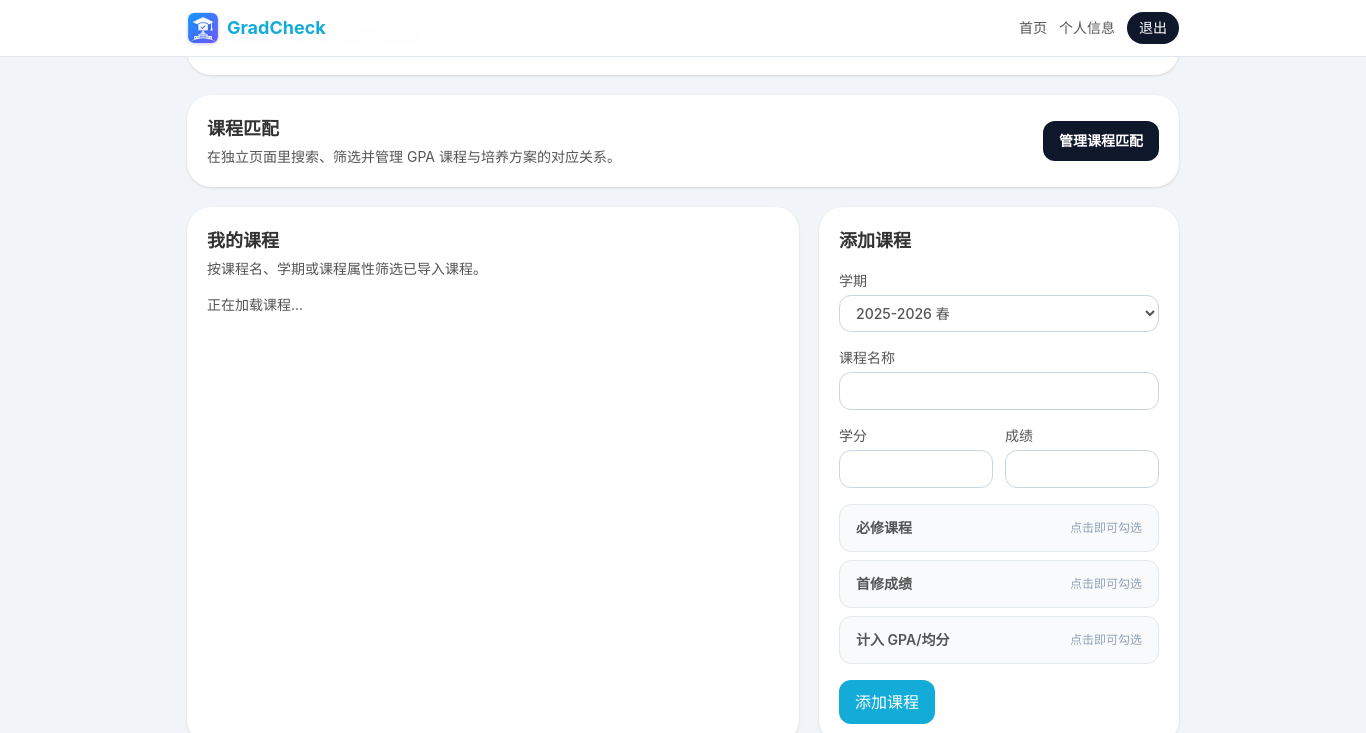
Test: GpaPage › keeps stale in-flight dashboard fetches from overwriting mutation results
(page scrolled)
Type "程序设计" into the field with test id "gpa-course-name".
click(999, 391); type("程序设计")  # box [839,372,1159,410]
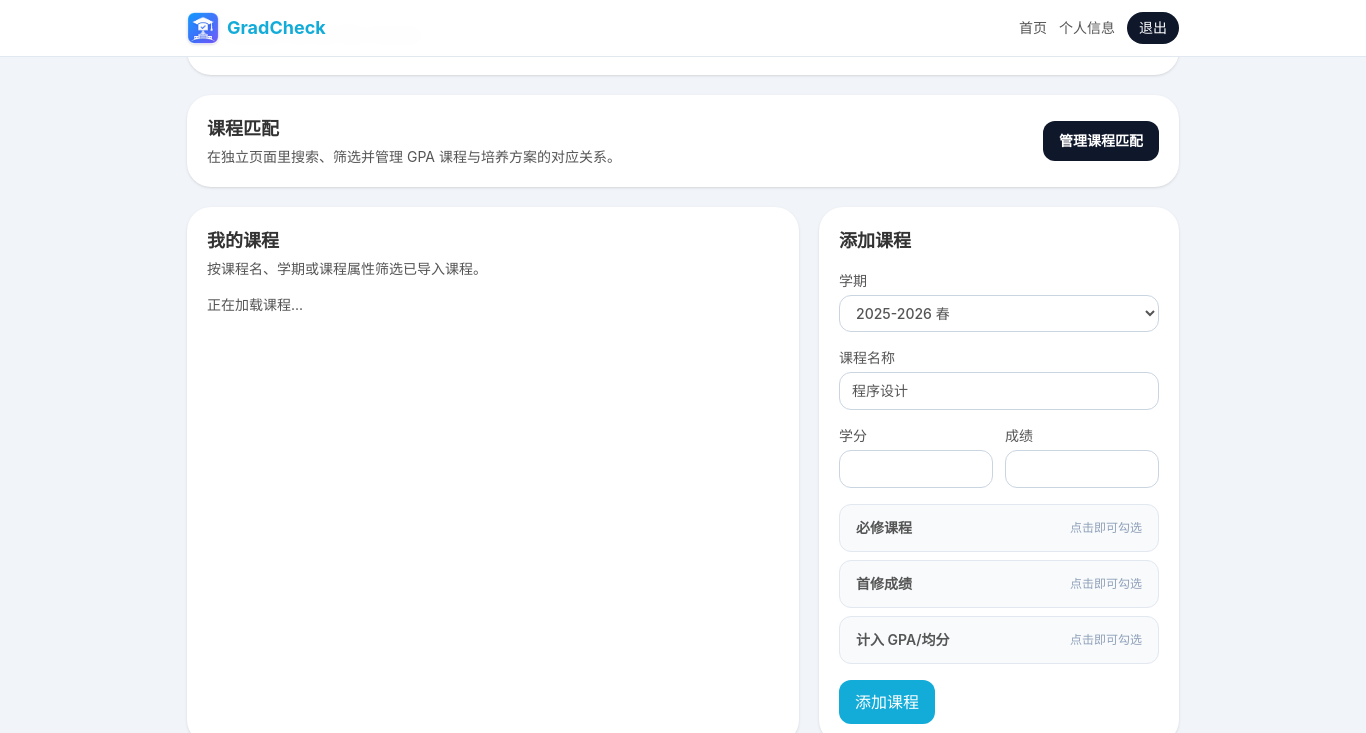
Type "4.00" into the field with test id "gpa-course-credit".
click(916, 469); type("4.00")  # box [839,450,993,488]
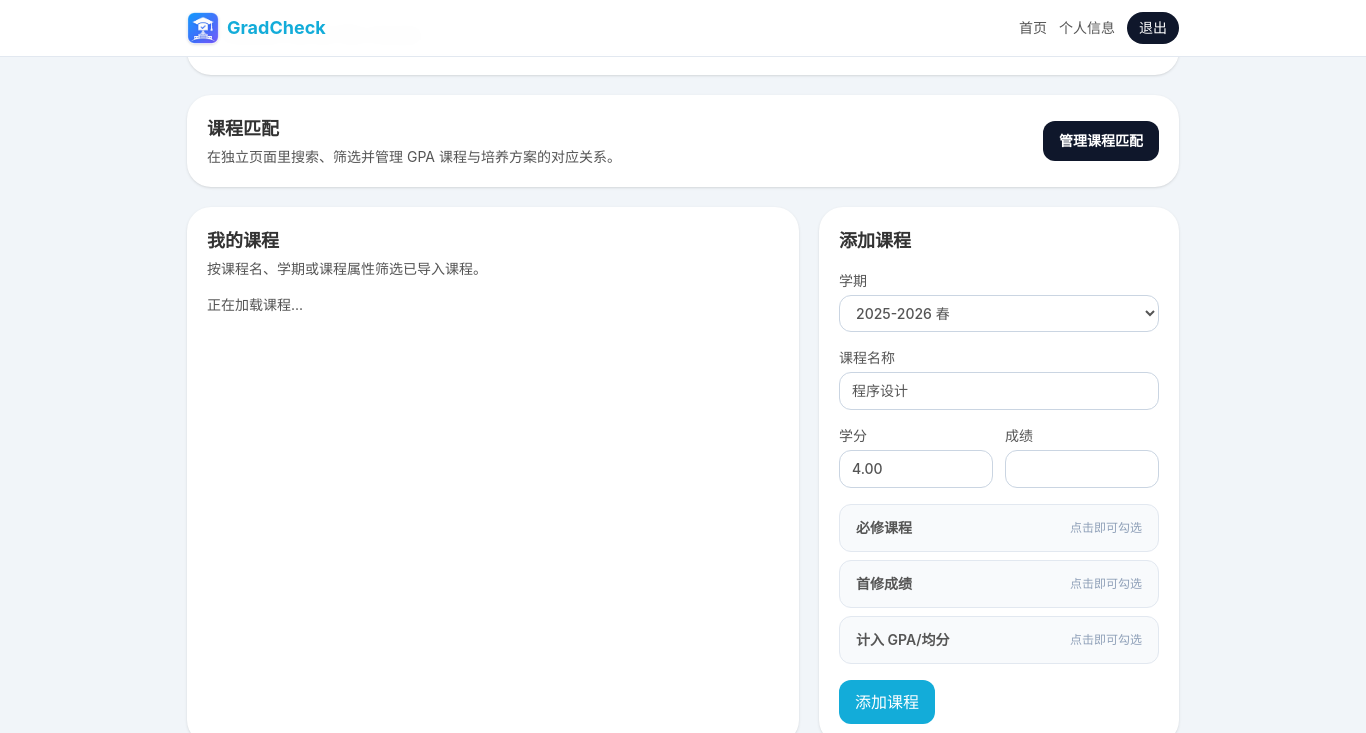
Type "90.00" into the field with test id "gpa-course-score".
click(1082, 469); type("90.00")  # box [1005,450,1159,488]
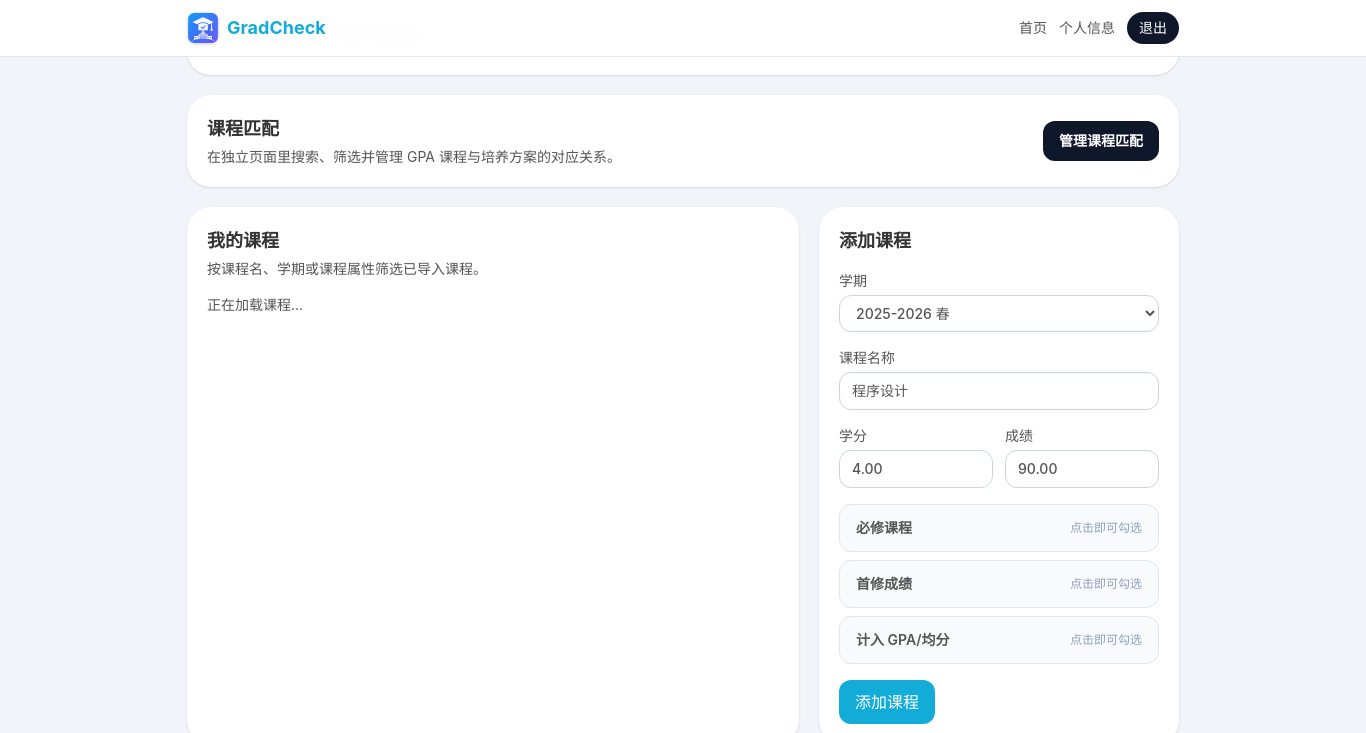
Submit the form with test id "gpa-course-form", box [839,271,1159,724]
(page scrolled)
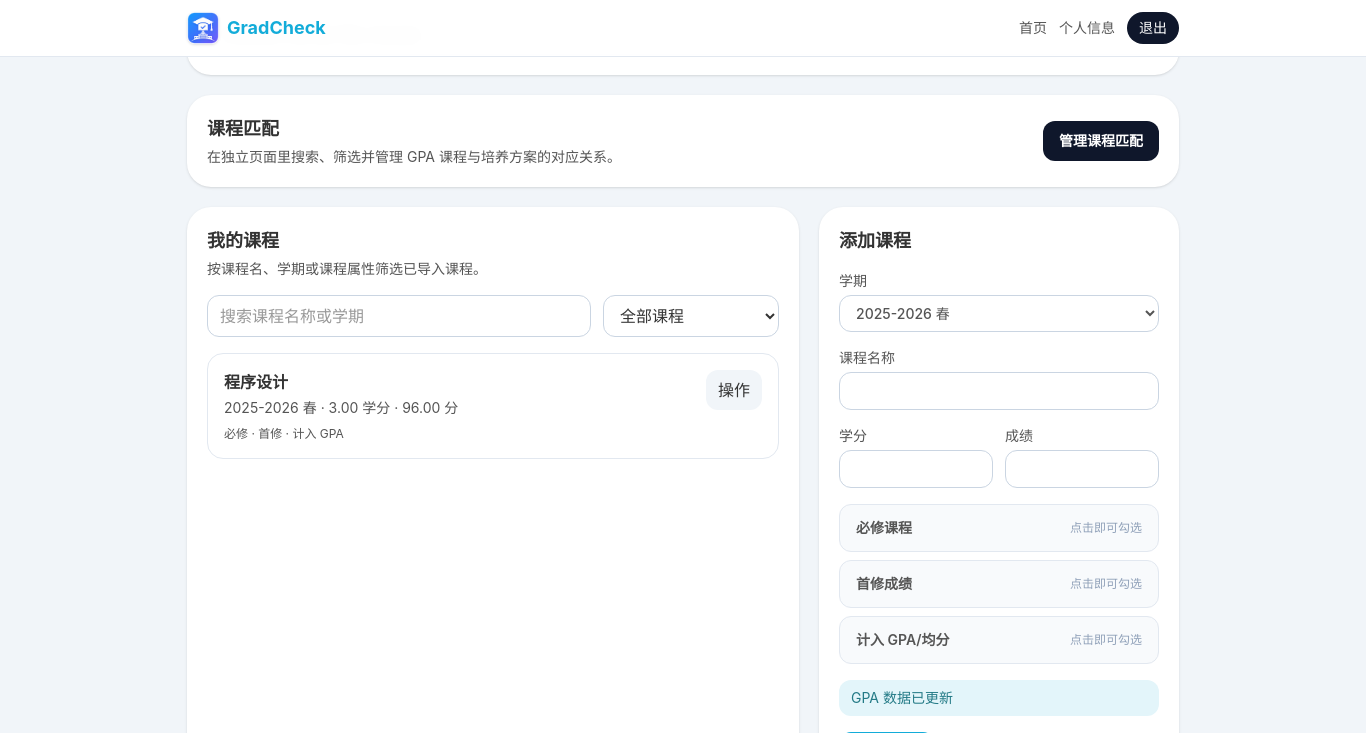
Now the element with test id "gpa-course-list" shows "程序设计", box [224,372,288,392]
